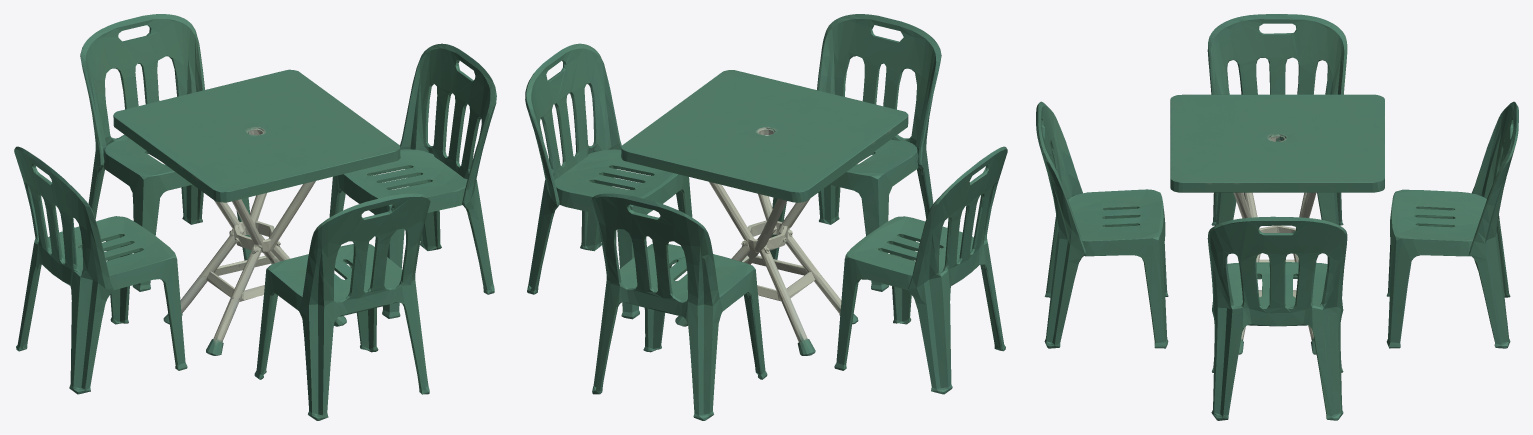
The model's file is conv_table_set.glb.
3 renders of one model, left to right at view 1: azimuth 30°, elevation 25°; view 2: azimuth 150°, elevation 25°; view 3: azimuth 270°, elevation 25°, orthographic. The views are drawn at different scales.
Visible parts, largest first — view 1: conv_table_set; view 2: conv_table_set; view 3: conv_table_set.
Part boxes in pixels (left/top/right/bottom): conv_table_set: left=14, top=14, right=496, bottom=420; conv_table_set: left=525, top=14, right=1007, bottom=420; conv_table_set: left=1036, top=14, right=1518, bottom=420.
Bounding box in the file's own units: 1.78 × 0.85 × 1.78.
Materials: 1 (1 with a texture image).
